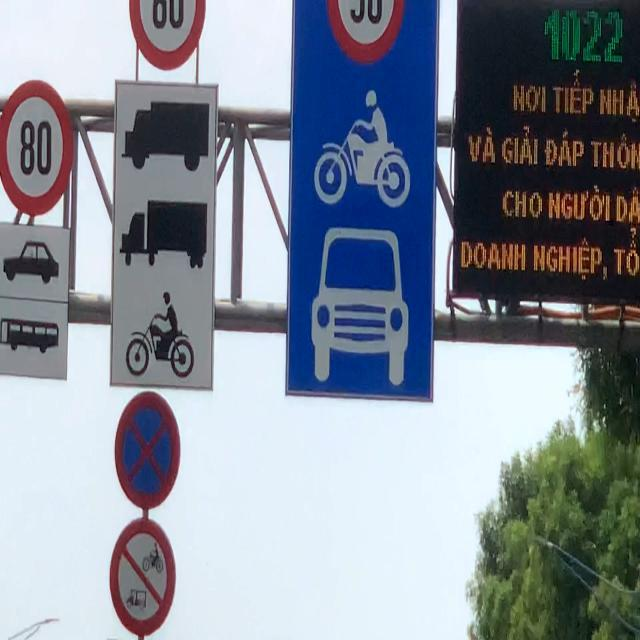Cam dung xe va do xe: (112, 386, 182, 514)
Toc do toi da cho phep: (0, 77, 72, 218)
